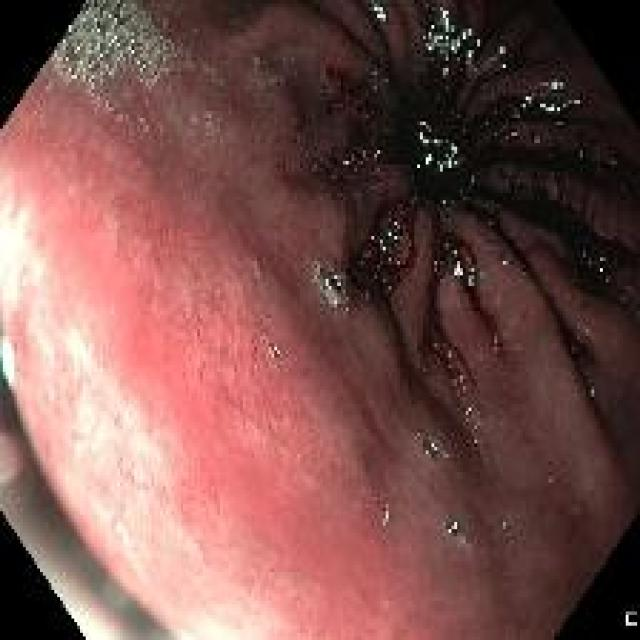blood: (279, 30, 628, 316)
bubbles: (47, 7, 188, 102), (324, 66, 386, 178), (431, 338, 478, 444), (358, 211, 411, 286), (426, 232, 474, 298), (415, 138, 467, 196), (523, 81, 584, 117), (319, 265, 347, 308), (420, 434, 458, 464), (102, 93, 126, 128), (200, 105, 223, 132), (261, 337, 284, 363), (444, 512, 459, 544)
contrast: (310, 12, 605, 319)
saturation: (41, 311, 279, 639), (1, 185, 40, 417)
specularity: (427, 11, 482, 70), (448, 249, 478, 289), (370, 5, 388, 23), (540, 100, 562, 114), (492, 42, 510, 56), (419, 119, 433, 137), (332, 270, 342, 289), (550, 79, 566, 90), (445, 156, 458, 169), (523, 94, 533, 110), (499, 58, 510, 72), (383, 506, 391, 525), (324, 277, 334, 292), (425, 151, 433, 166), (447, 142, 457, 153), (435, 159, 445, 170), (268, 347, 278, 357), (380, 239, 387, 252), (589, 387, 596, 399), (502, 258, 510, 268), (96, 50, 104, 59), (83, 65, 93, 72), (416, 161, 422, 172), (574, 97, 580, 108), (422, 136, 429, 145), (433, 138, 440, 147), (599, 255, 606, 264), (447, 526, 453, 536), (610, 157, 616, 167), (430, 442, 436, 450), (344, 159, 350, 167), (74, 45, 80, 53), (65, 55, 71, 63), (425, 447, 429, 458), (393, 235, 399, 242), (374, 147, 380, 154), (141, 61, 147, 68), (68, 74, 74, 80), (600, 268, 604, 276), (511, 132, 517, 137), (136, 58, 141, 64), (139, 66, 144, 72), (67, 25, 72, 31), (453, 523, 457, 530), (449, 351, 453, 358), (387, 230, 391, 237), (53, 50, 56, 59)
